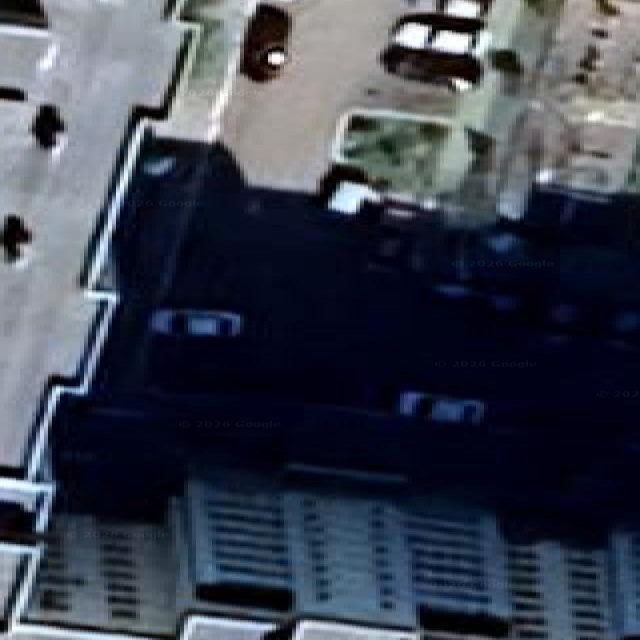car: (380, 12, 487, 89), (383, 44, 480, 89), (240, 4, 291, 80), (316, 163, 379, 216), (396, 391, 484, 424), (151, 308, 243, 336), (0, 213, 31, 264), (32, 103, 64, 148), (0, 0, 47, 27), (0, 503, 32, 540), (612, 308, 639, 342), (377, 209, 380, 215)
